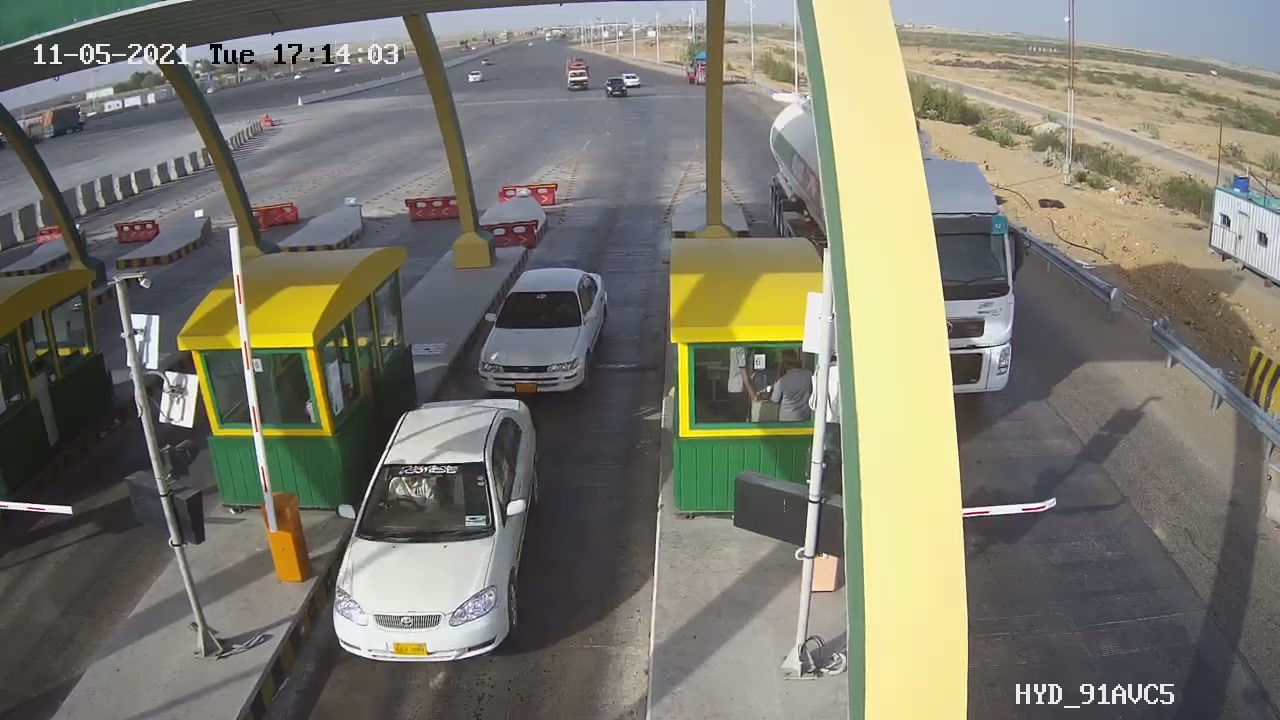F1: (463, 261, 620, 409)
